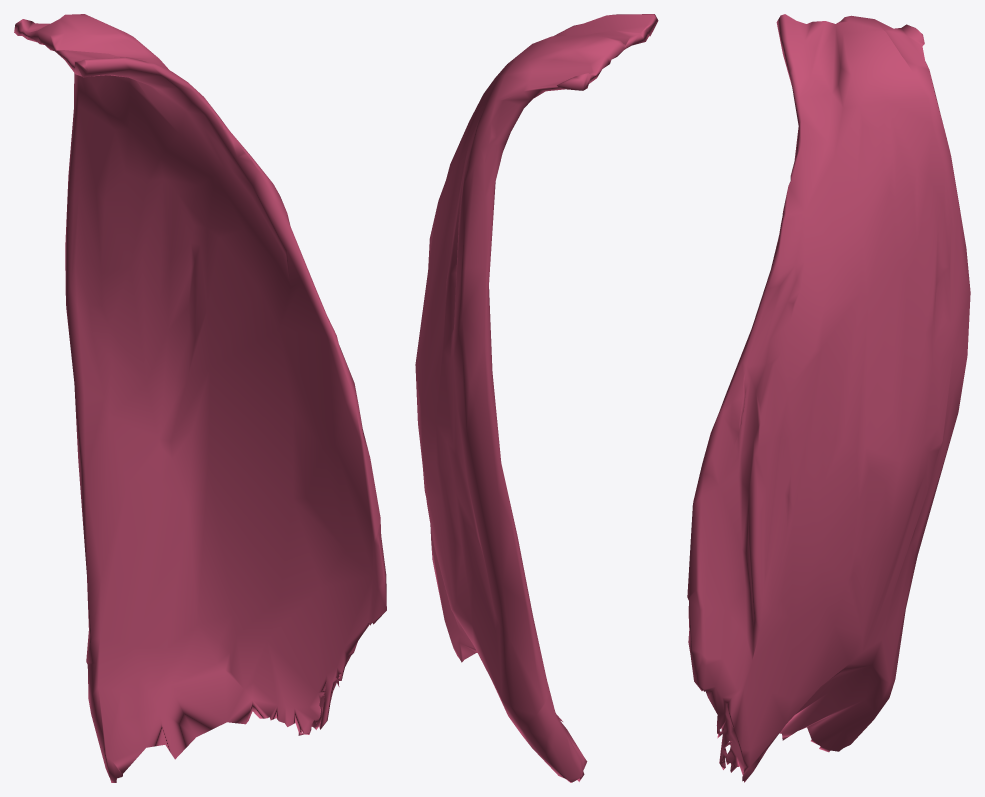
3 renders of one model, left to right at view 1: azimuth 30°, elevation 25°; view 2: azimuth 150°, elevation 25°; view 3: azimuth 270°, elevation 25°, orthographic. The views are drawn at different scales.
Parts seen in each view (by area): view 1: 左侧耻骨肛门肌; view 2: 左侧耻骨肛门肌; view 3: 左侧耻骨肛门肌.
Part boxes in pixels (x1,y1,x2,y2): 左侧耻骨肛门肌: (14, 14, 386, 782); 左侧耻骨肛门肌: (415, 14, 658, 782); 左侧耻骨肛门肌: (687, 14, 970, 782).
Size of the model in its own units: 0.0447 by 0.1241 by 0.0446.
